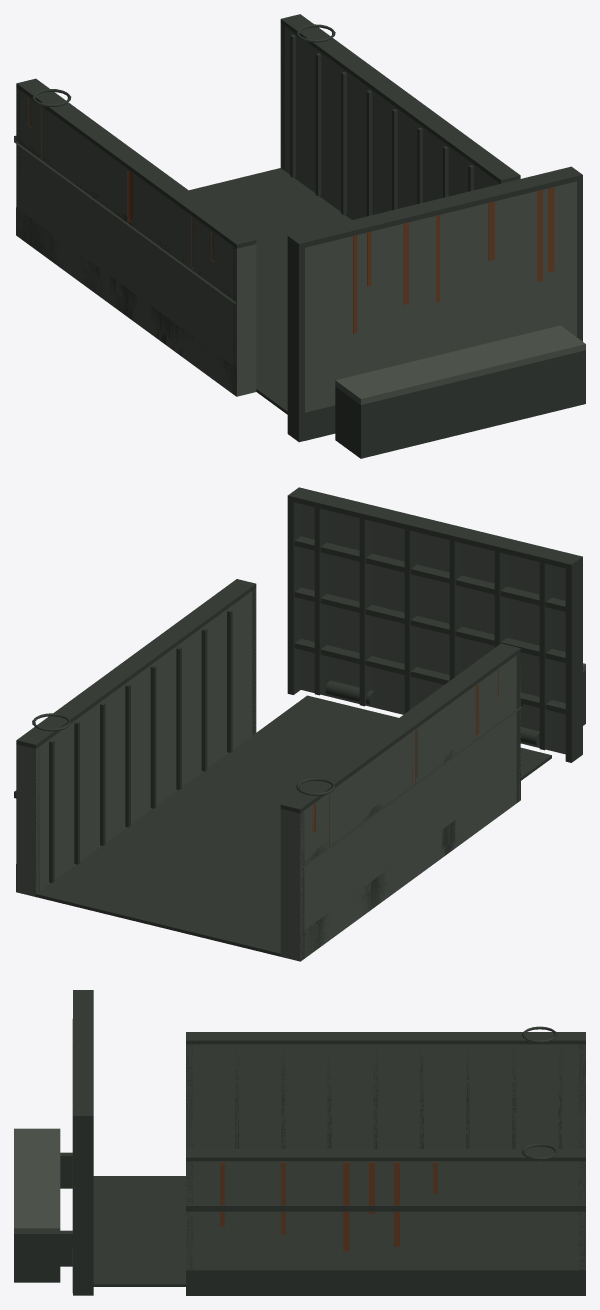
The model's file is landing_craft.glb.
3 views of the same model, one above another, from view 1: azimuth 30°, elevation 25°; view 2: azimuth 150°, elevation 25°; view 3: azimuth 270°, elevation 25° (orthographic). The views are drawn at different scales.
Visible parts, largest first — view 1: landing_craft; view 2: landing_craft; view 3: landing_craft.
Part boxes in pixels (x1=…): landing_craft: x1=14, y1=14, x2=585, y2=458; landing_craft: x1=14, y1=487, x2=585, y2=961; landing_craft: x1=14, y1=990, x2=585, y2=1295.
Size of the model in its own units: 6.1 by 3.87 by 11.15.
